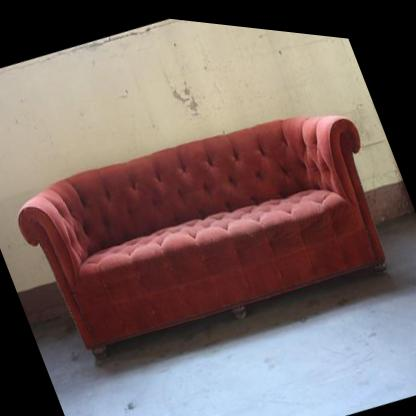Sofa: (4, 53, 416, 406)
